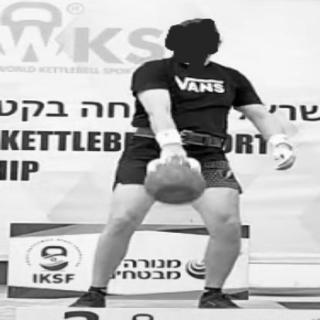kettlebell: (138, 154, 211, 208)
